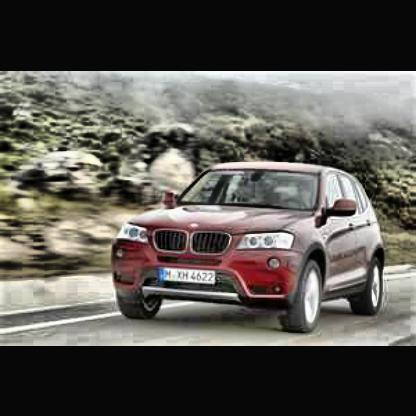BMW X3 SUV 2012: (110, 160, 390, 334)
